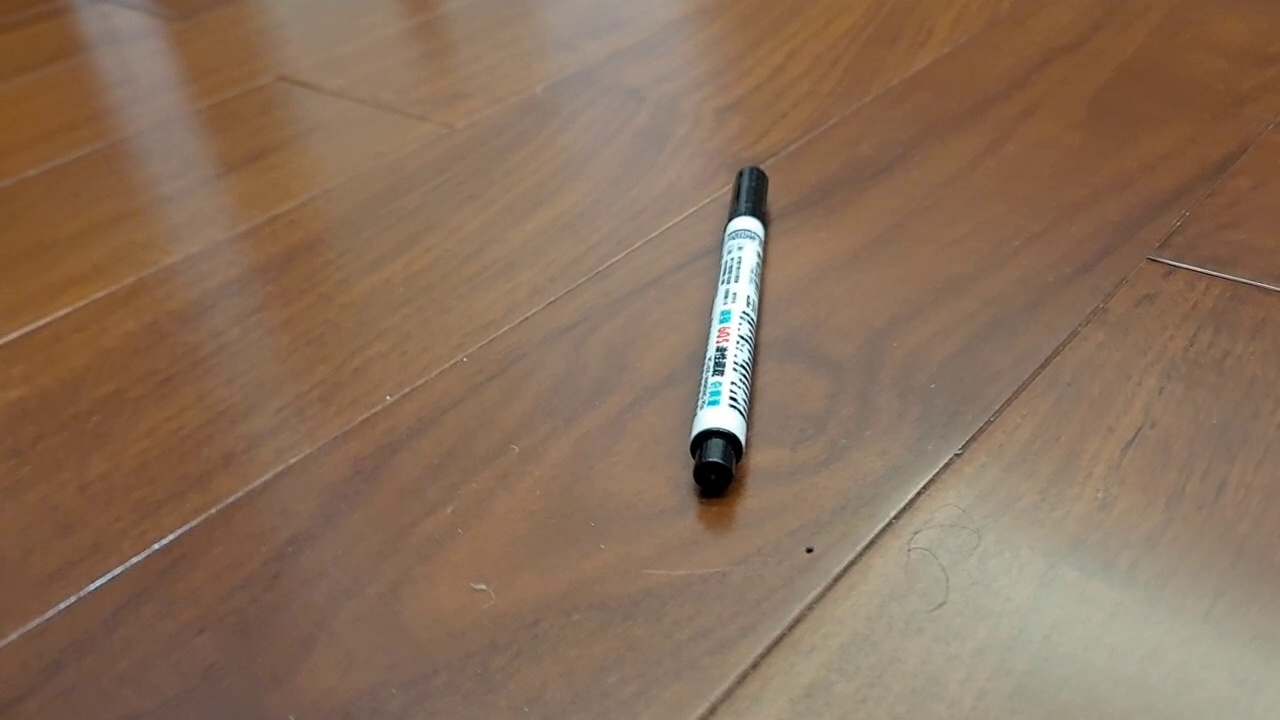pen: (688, 166, 770, 498)
